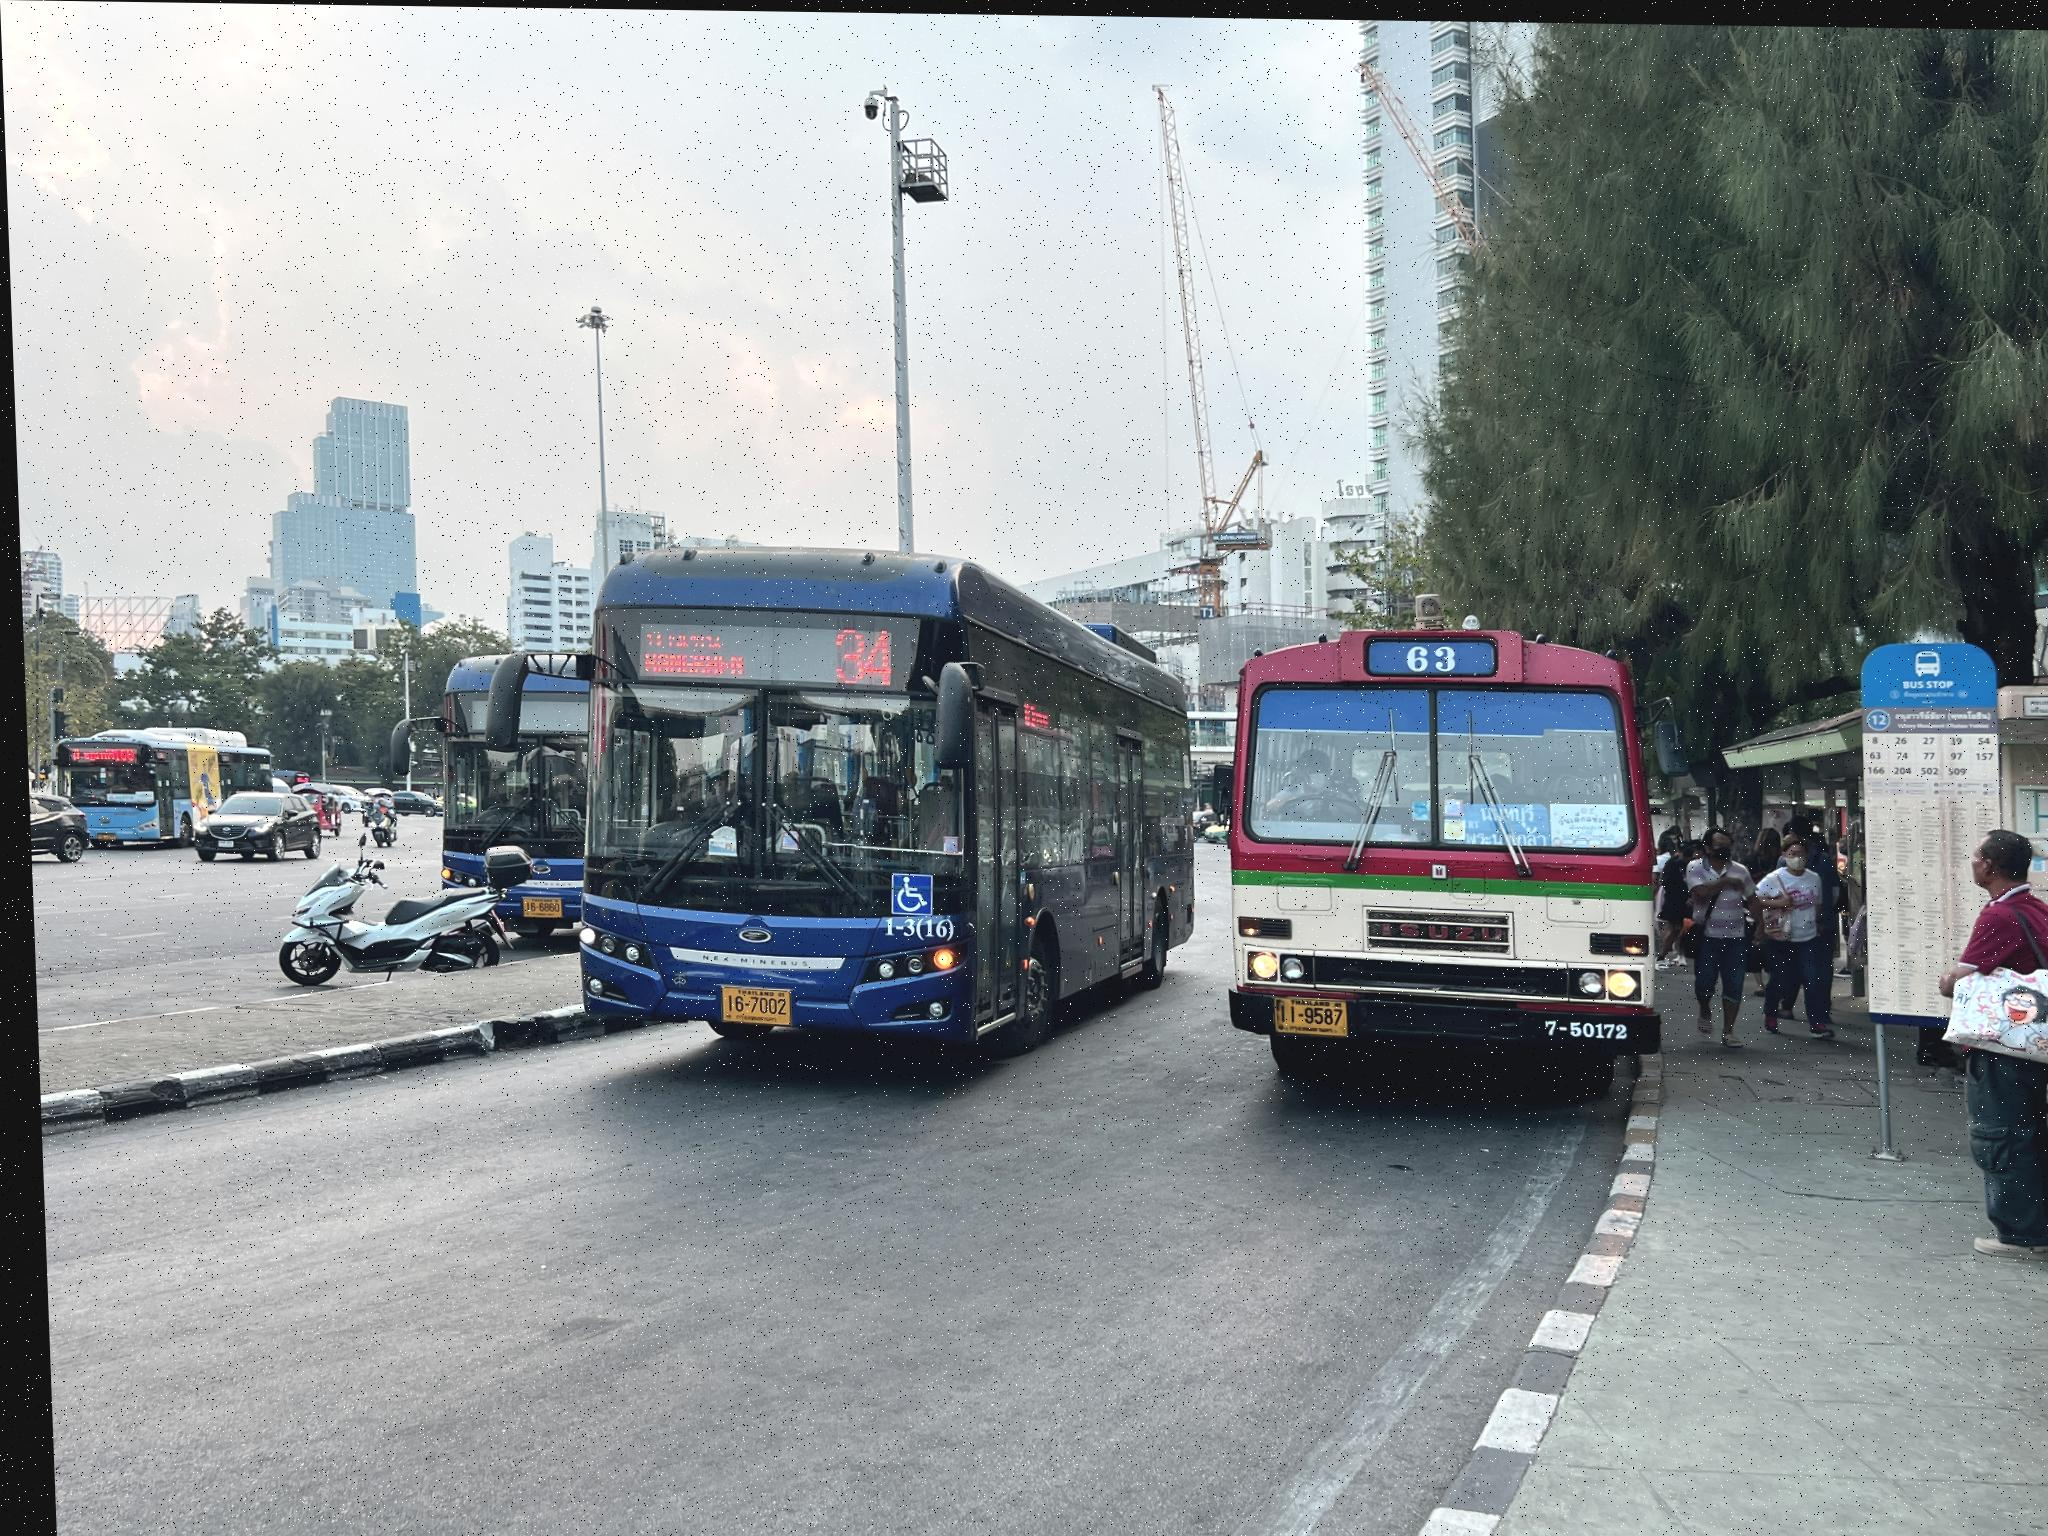BMTA-bus: (1219, 620, 1659, 1091), (50, 729, 268, 850)
Bus Line Number: (810, 620, 908, 689), (1388, 634, 1461, 674), (111, 750, 131, 763)
Bus Side Number: (1532, 1008, 1629, 1042), (871, 913, 958, 942), (110, 829, 129, 836)
Destination Sign: (626, 616, 760, 684), (1448, 797, 1545, 845), (100, 794, 129, 802)
TSB-Bus: (568, 545, 1188, 1063), (426, 649, 589, 931)
